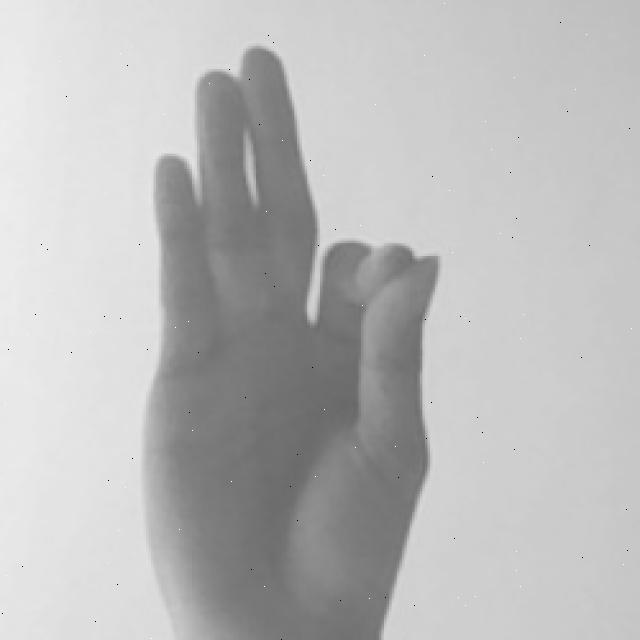F: (138, 41, 443, 640)
